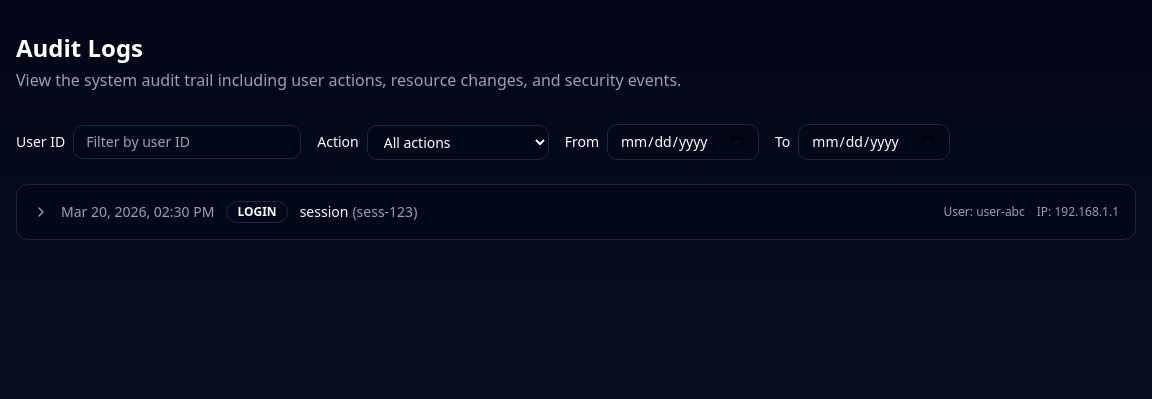
AdminAuditLogsPage › expandable detail › collapses detail on second click
Click the button with aria-label "LOGIN on session".
click(138, 212)  # box [17,185,1135,239]
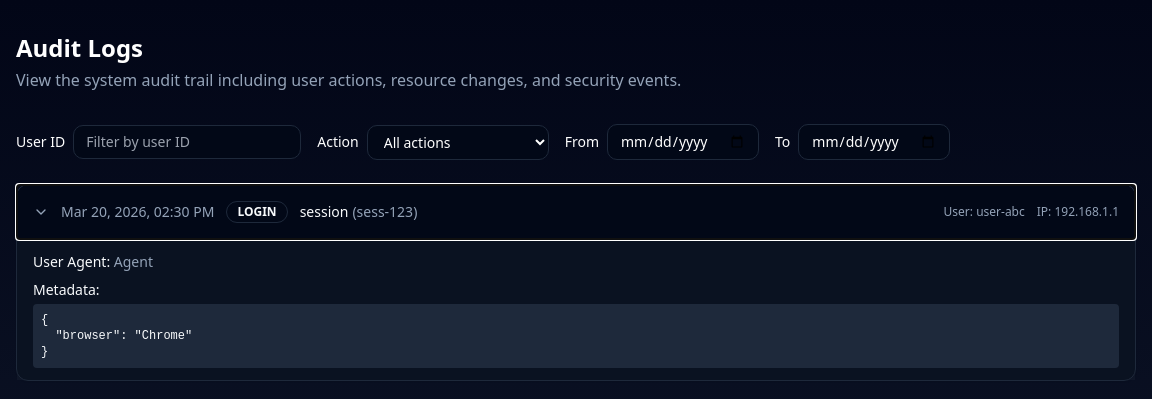
Now the element with test id "audit-log-detail" is shown, box [17,239,1135,380]
Click the button with aria-label "LOGIN on session".
click(138, 212)  # box [17,185,1135,239]
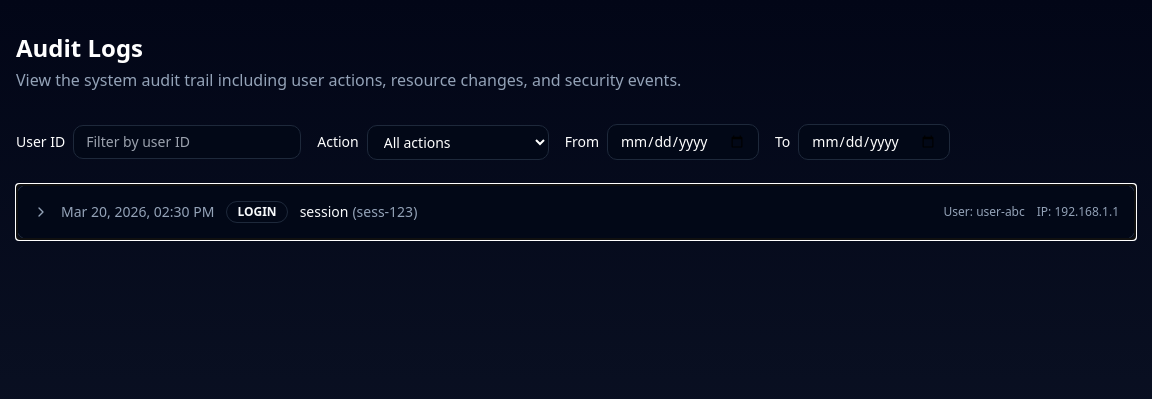
Now the element with test id "audit-log-detail" is gone
